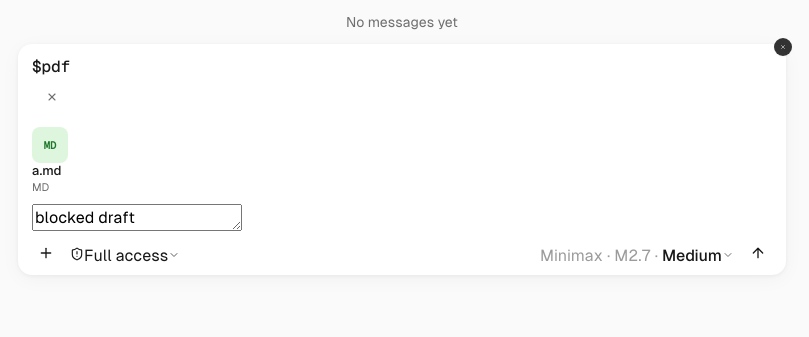
Test: ChatView › keeps a pre-start blocked turn in the Composer without refreshing the catalog
Check: the button "Minimax · M2.7 · Medium" is shown, box [534, 244, 740, 267]
Click the button named "send" at (758, 256), box [744, 244, 772, 267]
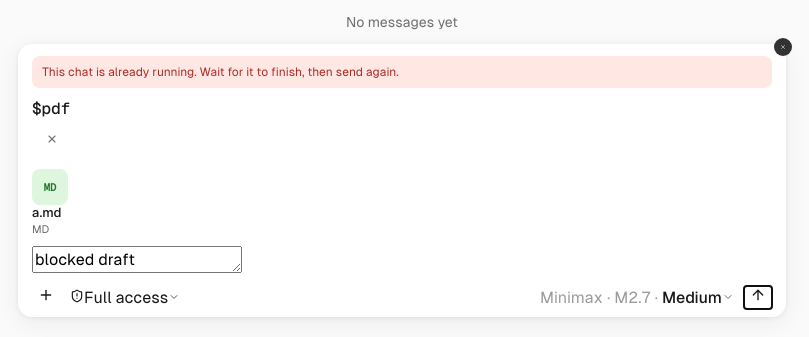
Check: the message shows "This chat is already running", box [42, 65, 399, 79]
